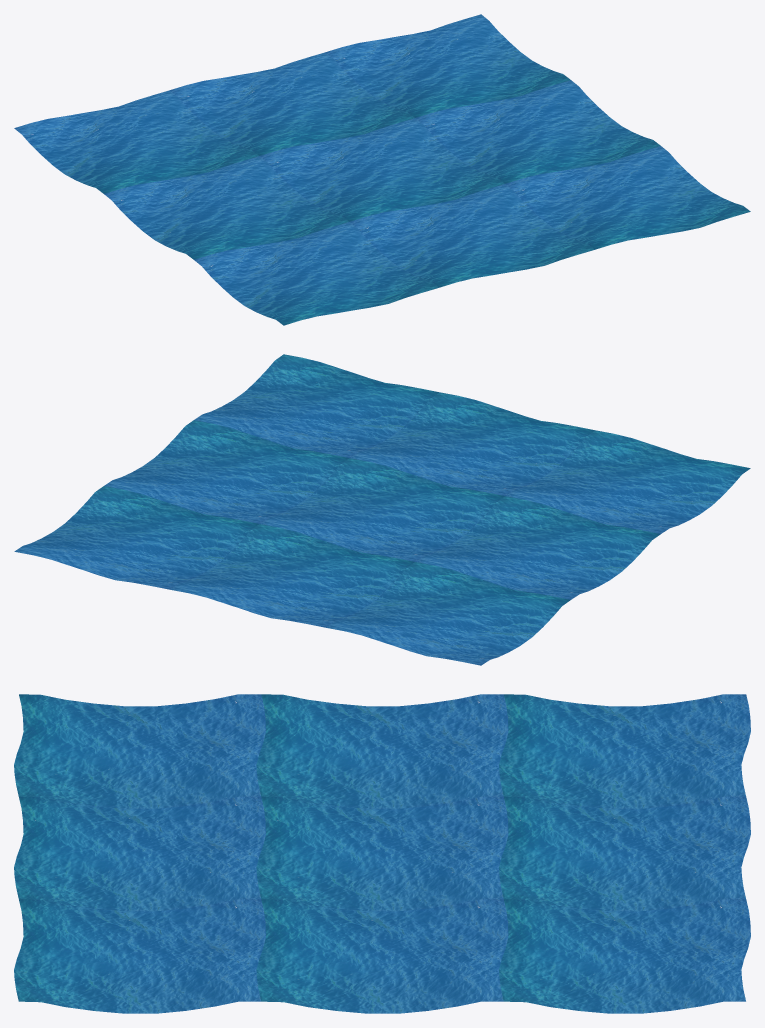
Rendered from ocean_000062.obj.
The picture shows the model from 3 angles, top to bottom: view 1: azimuth 30°, elevation 25°; view 2: azimuth 150°, elevation 25°; view 3: azimuth 270°, elevation 25°; orthographic projection. The views are drawn at different scales.
Parts seen in each view (by area): view 1: Ocean_Plan.001; view 2: Ocean_Plan.001; view 3: Ocean_Plan.001.
Boxes of the visible parts, x1,y1,x2,y2 form: Ocean_Plan.001: (14, 14, 750, 325); Ocean_Plan.001: (14, 354, 750, 665); Ocean_Plan.001: (14, 694, 750, 1013).
Size of the model in its own units: 109181 by 2196 by 110402.
Materials: 1 (1 with a texture image).
